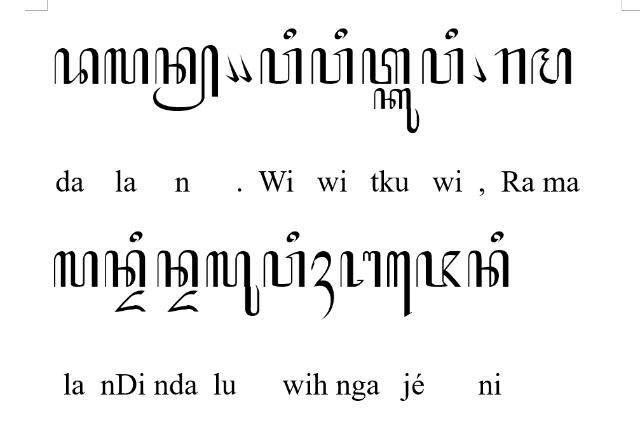-n: (153, 44, 219, 111)
_d: (114, 291, 146, 313), (168, 291, 198, 313)
_h1: (312, 252, 334, 320)
d: (54, 47, 98, 84)
e1: (386, 251, 412, 318)
i: (334, 28, 348, 40), (286, 231, 300, 243), (490, 231, 504, 243), (284, 28, 296, 40), (446, 28, 458, 40), (129, 232, 143, 242)
j: (415, 251, 461, 288)
kom: (472, 53, 488, 83), (225, 54, 239, 82), (238, 54, 252, 82)
ku: (374, 88, 420, 134)
l: (54, 251, 98, 288), (105, 48, 149, 84)
lu: (207, 252, 260, 316)
m: (530, 48, 572, 84)
n: (104, 250, 146, 288), (467, 250, 509, 288), (158, 250, 198, 288)
nga: (341, 251, 382, 288)
r: (494, 48, 526, 84)
t: (362, 48, 410, 84)
w: (264, 250, 304, 288), (260, 48, 302, 84), (311, 48, 353, 84), (422, 48, 463, 84)
